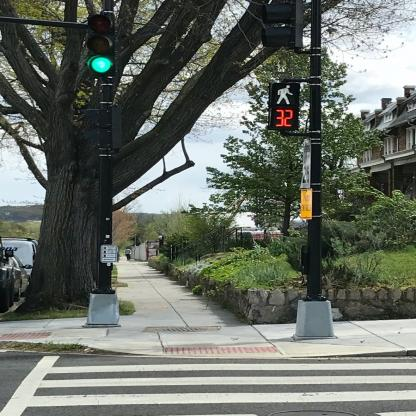Crosswalk: (13, 346, 416, 416)
Walk: (273, 84, 300, 107)
